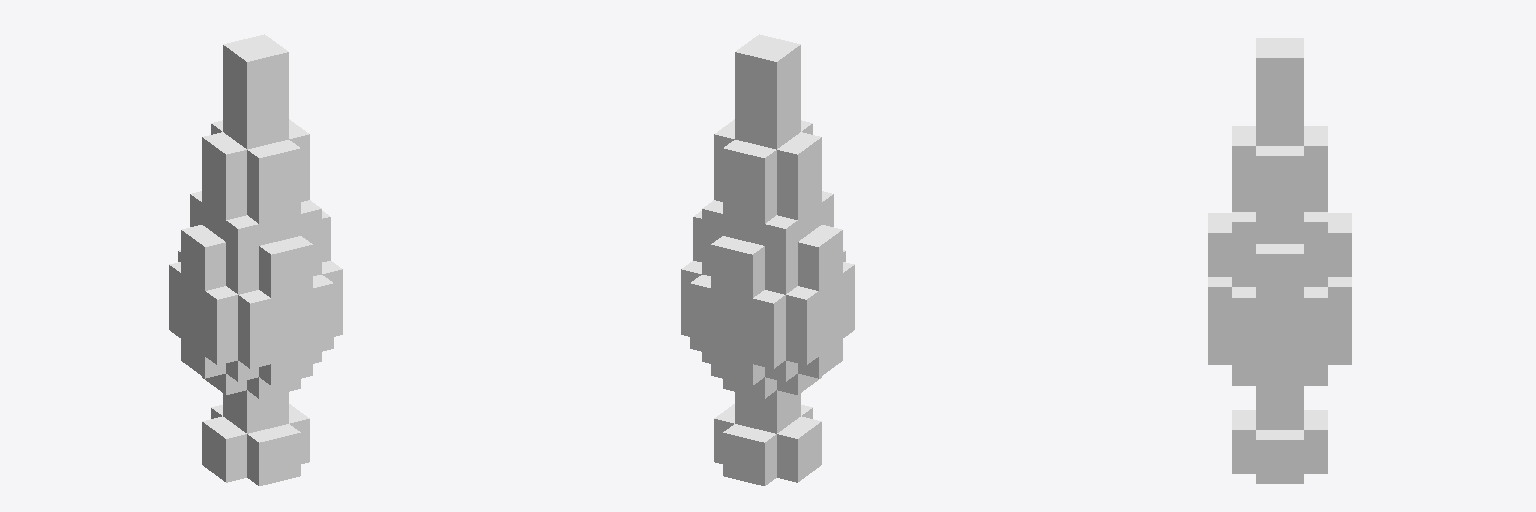
The model's file is grass-montain10.obj.
3 views of the same model, side by side, from view 1: azimuth 30°, elevation 25°; view 2: azimuth 150°, elevation 25°; view 3: azimuth 270°, elevation 25° (orthographic).
Parts seen in each view (by area): view 1: object 1; view 2: object 1; view 3: object 1.
Part boxes in pixels (left/top/right/bottom): object 1: left=169, top=34, right=342, bottom=485; object 1: left=681, top=34, right=854, bottom=485; object 1: left=1208, top=38, right=1351, bottom=483.
Bounding box in the file's own units: 0.6 × 1.9 × 0.6.